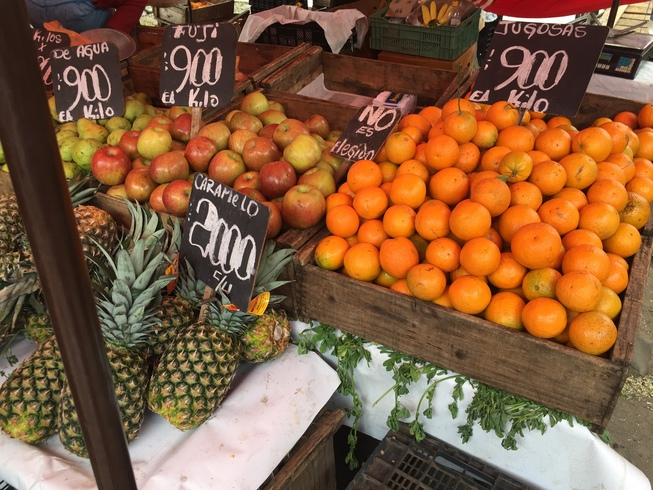precio: (181, 170, 273, 324), (467, 17, 589, 123), (161, 25, 242, 117), (55, 40, 123, 130), (327, 96, 391, 173), (21, 29, 73, 96)
